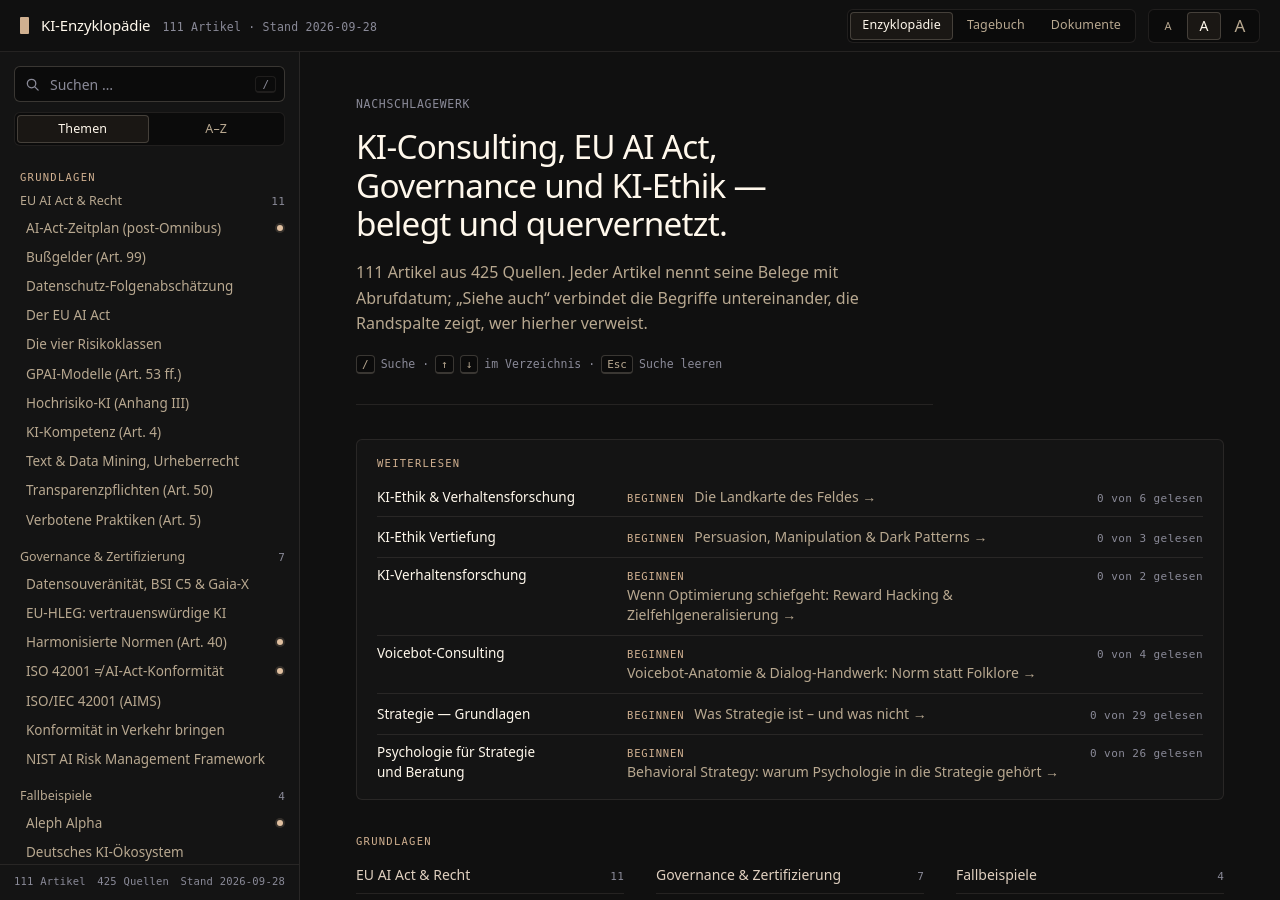
it: App › schaltet das Register auf A–Z um und merkt es sich
Click the tab "A–Z".
click(216, 129)  # box [150,115,282,143]
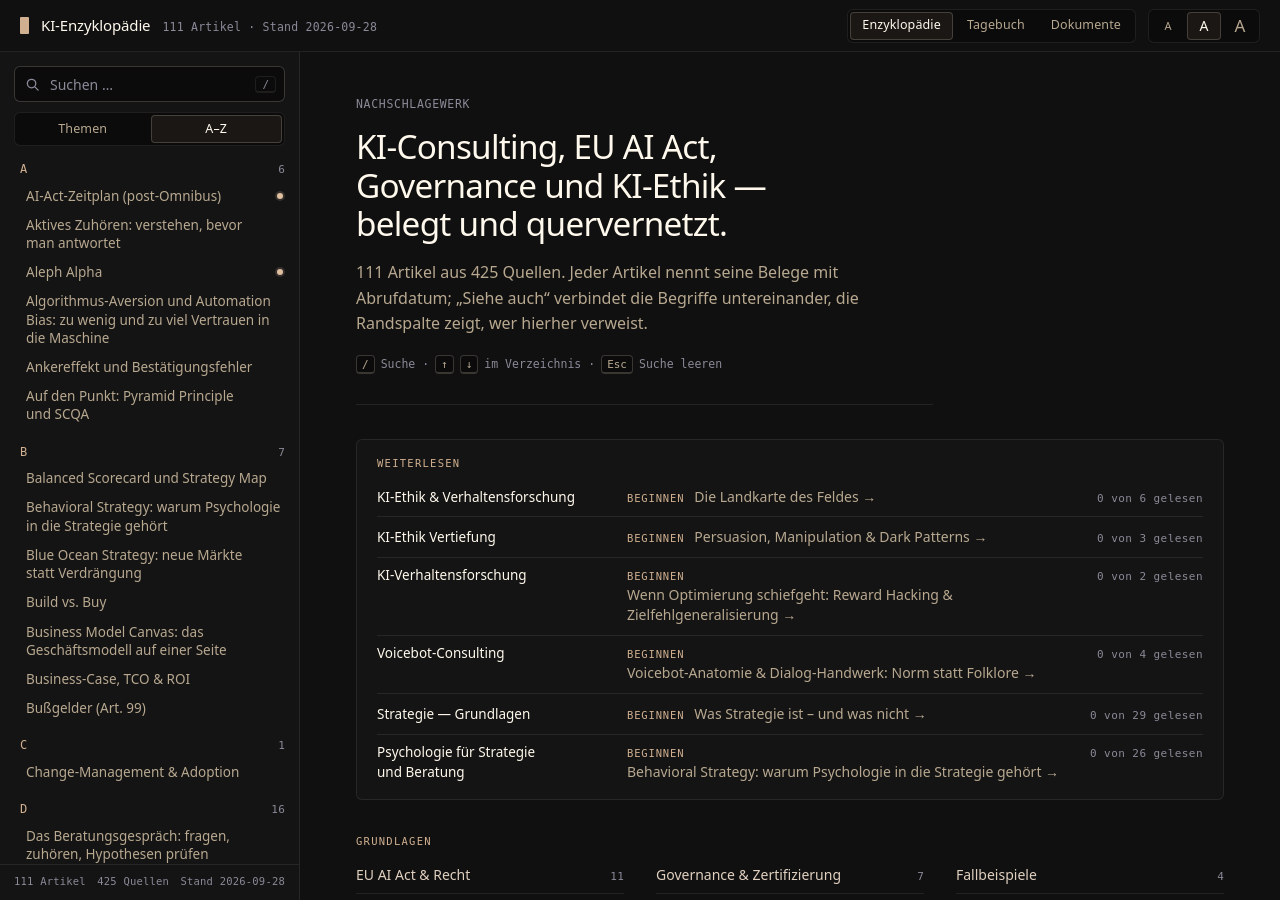
Now the element named "Buchstabe A" is shown, box [14,160,291,429]
